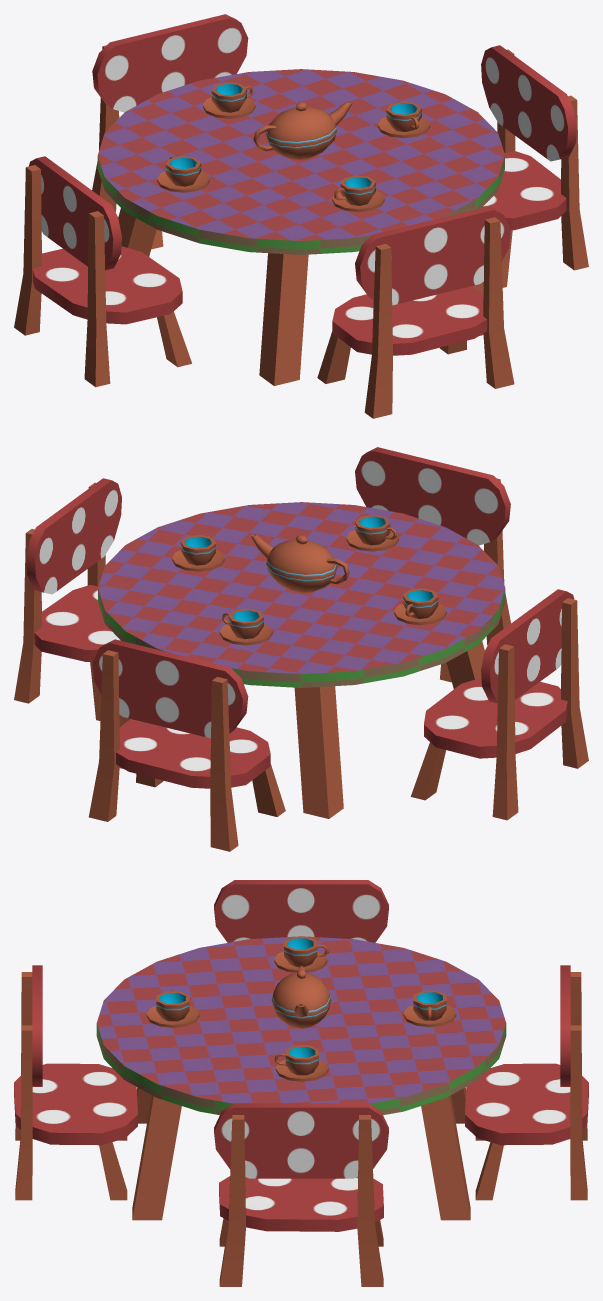
The model's file is Dinette.fbx.
The picture shows the model from 3 angles, top to bottom: view 1: azimuth 30°, elevation 25°; view 2: azimuth 150°, elevation 25°; view 3: azimuth 270°, elevation 25°; orthographic projection.
Visible parts, largest first — view 1: polymsh10; view 2: polymsh10; view 3: polymsh10.
Boxes of the visible parts, x1,y1,x2,y2 form: polymsh10: (14,14,588,418); polymsh10: (14,447,588,851); polymsh10: (14,880,588,1286).
Bounding box in the file's own units: 8.61 × 3.23 × 8.61.
